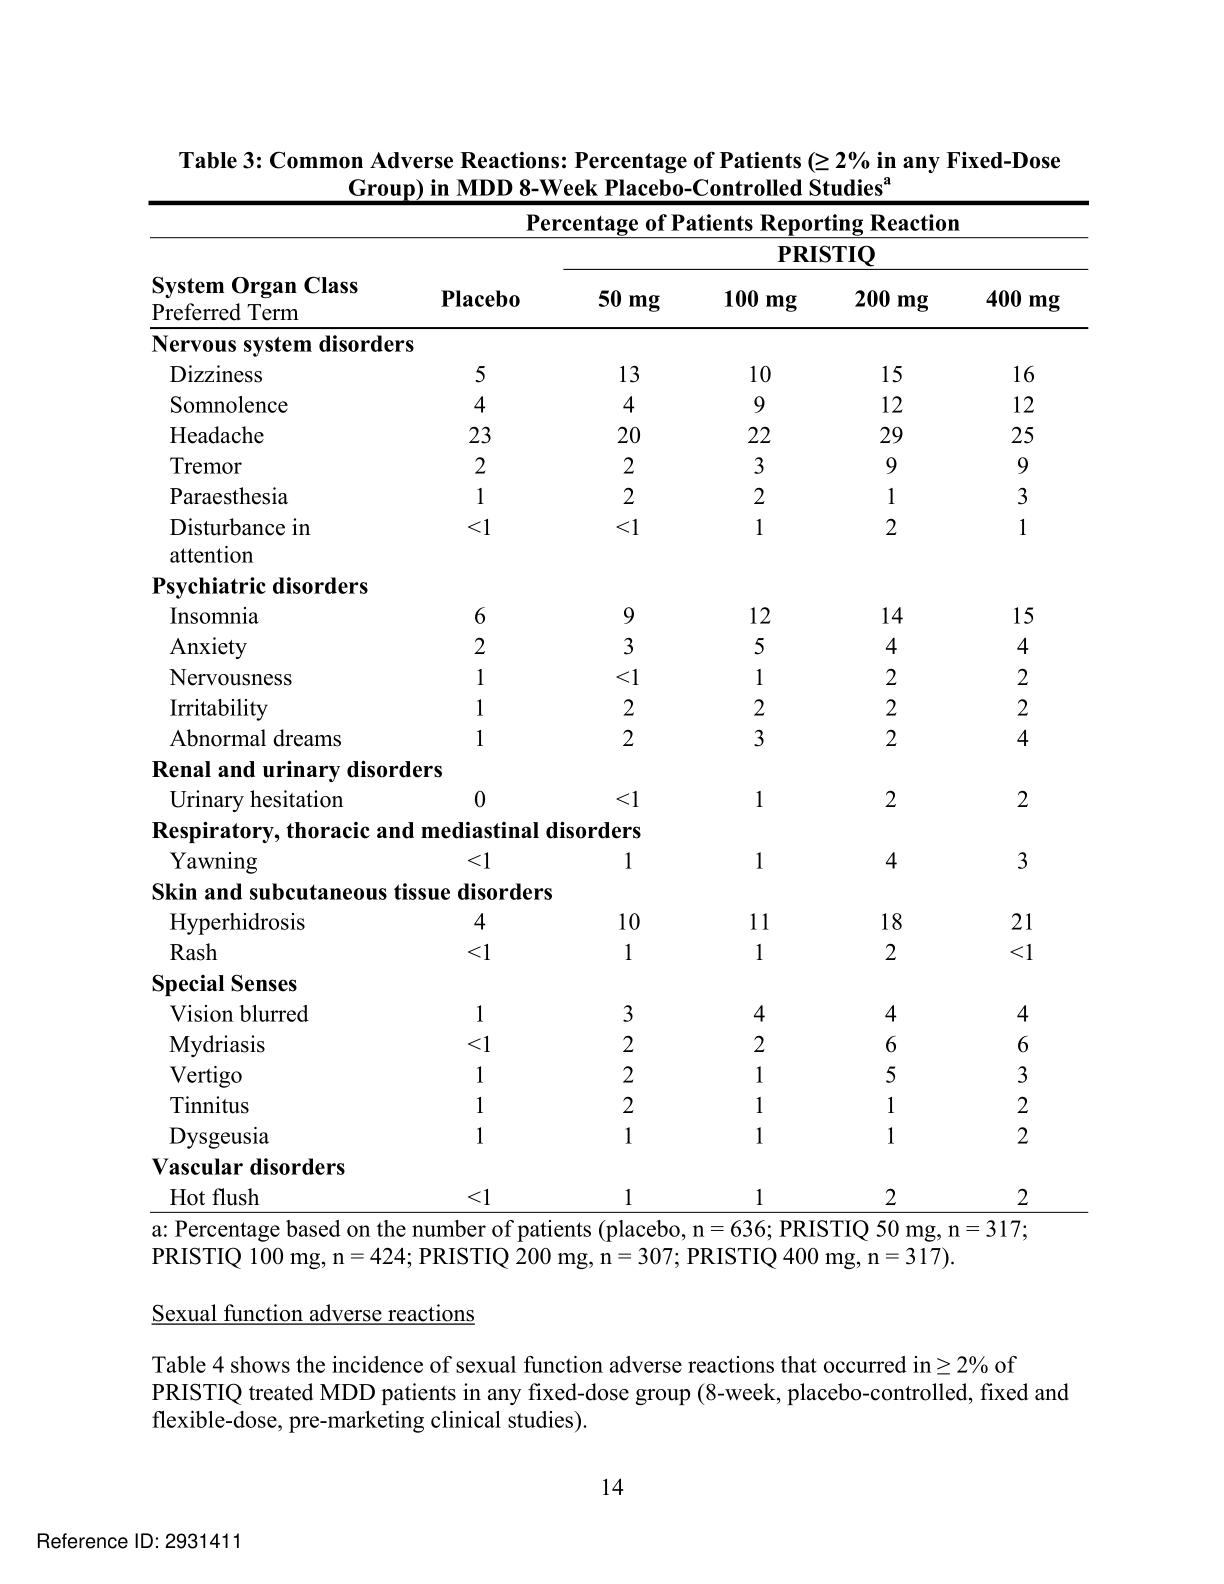partial_lined_merged_cells: (147, 198, 1093, 1218)
